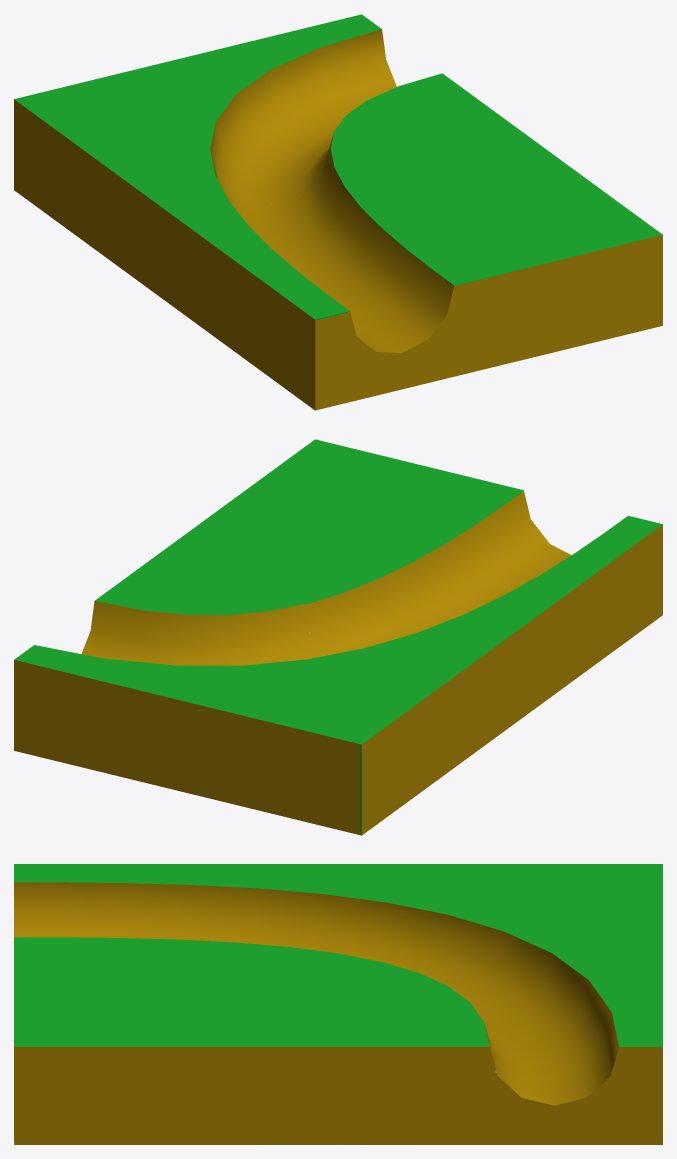
File: bigCurve_Mirror.fbx
3 renders of one model, top to bottom at view 1: azimuth 30°, elevation 25°; view 2: azimuth 150°, elevation 25°; view 3: azimuth 270°, elevation 25°, orthographic. The views are drawn at different scales.
Parts seen in each view (by area): view 1: Cube_1_1.044; view 2: Cube_1_1.044; view 3: Cube_1_1.044.
Part boxes in pixels (x1,y1,x2,y2): Cube_1_1.044: [14, 14, 662, 410]; Cube_1_1.044: [14, 439, 662, 835]; Cube_1_1.044: [14, 864, 662, 1144].
Bounding box in the file's own units: 400 × 100 × 600.
